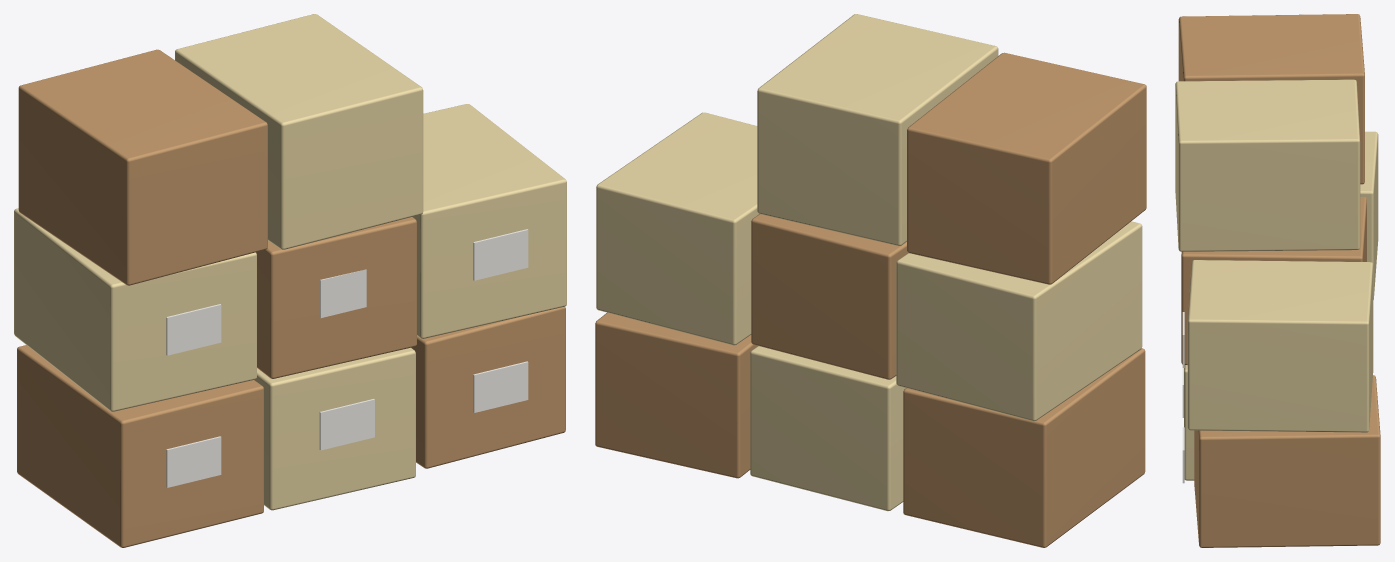
Rendered from ArchiveBoxes.fbx.
3 views of the same model, side by side, from view 1: azimuth 30°, elevation 25°; view 2: azimuth 150°, elevation 25°; view 3: azimuth 270°, elevation 25° (orthographic). The views are drawn at different scales.
Parts seen in each view (by area): view 1: ArchiveBoxesBody; view 2: ArchiveBoxesBody; view 3: ArchiveBoxesBody.
Part boxes in pixels (bbox=[...]): ArchiveBoxesBody: bbox=[14, 14, 566, 547]; ArchiveBoxesBody: bbox=[595, 14, 1146, 547]; ArchiveBoxesBody: bbox=[1175, 14, 1380, 547].
Bounding box in the file's own units: 1.01 × 0.83 × 0.452.
